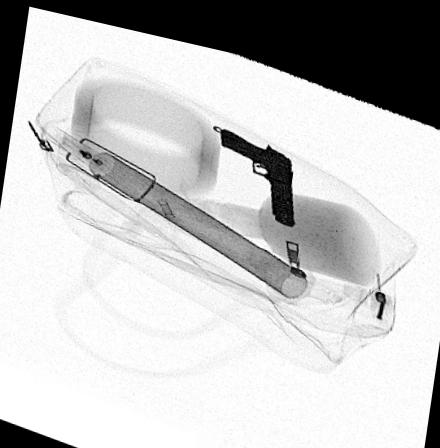Gun: (220, 117, 295, 214)
